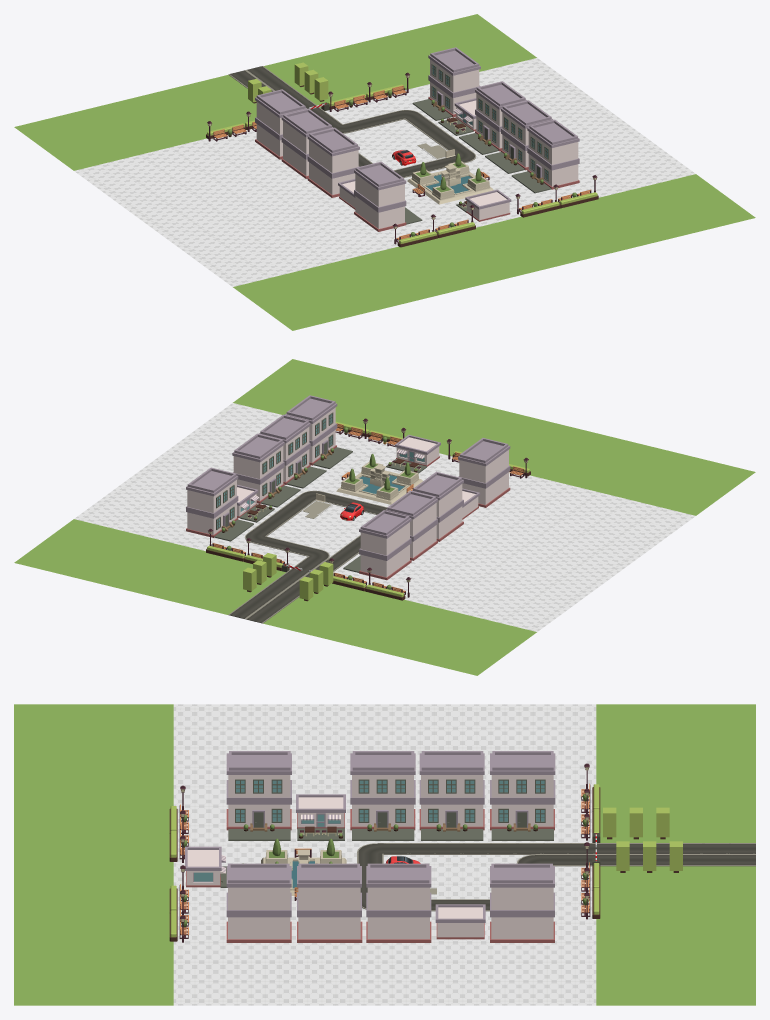
The model's file is ParkingJamPuzzleScene.fbx.
3 views of the same model, one above another, from view 1: azimuth 30°, elevation 25°; view 2: azimuth 150°, elevation 25°; view 3: azimuth 270°, elevation 25° (orthographic). The views are drawn at different scales.
Parts seen in each view (by area): view 1: Ground, GrassGround.001, GrassGround2, GrassGround, Building4, Building7, Building1, Building8, Building3, Building2, Fountain, Building10.001 (+3 smaller); view 2: Ground, GrassGround.001, GrassGround2, GrassGround, Building1, Building10.001, Building2, Building7, Building4, Building3, Fountain, Building9.001 (+3 smaller); view 3: Ground, GrassGround.001, GrassGround, GrassGround2, Building9.001, Building7, Building8, Building10.001, Building2, Building4, Building3, Building1 (+4 smaller).
Boxes of the visible parts, x1=… form: Ground: x1=74, y1=58, x2=695, y2=286; GrassGround.001: x1=233, y1=174, x2=755, y2=330; GrassGround2: x1=14, y1=75, x2=256, y2=170; GrassGround: x1=264, y1=14, x2=536, y2=107; Building4: x1=511, y1=119, x2=579, y2=193; Building7: x1=354, y1=161, x2=422, y2=231; Building1: x1=412, y1=47, x2=480, y2=120; Building8: x1=307, y1=127, x2=359, y2=197; Building3: x1=485, y1=100, x2=553, y2=173; Building2: x1=459, y1=81, x2=526, y2=154; Fountain: x1=407, y1=153, x2=493, y2=204; Building10.001: x1=255, y1=89, x2=307, y2=159; Ground: x1=74, y1=403, x2=695, y2=631; GrassGround.001: x1=233, y1=359, x2=755, y2=515; GrassGround2: x1=263, y1=583, x2=536, y2=675; GrassGround: x1=14, y1=519, x2=285, y2=614; Building1: x1=186, y1=467, x2=253, y2=541; Building10.001: x1=343, y1=510, x2=411, y2=580; Building2: x1=232, y1=433, x2=300, y2=507; Building7: x1=458, y1=438, x2=510, y2=507; Building4: x1=285, y1=395, x2=352, y2=468; Building3: x1=259, y1=414, x2=326, y2=488; Fountain: x1=336, y1=454, x2=422, y2=504; Building9.001: x1=385, y1=490, x2=437, y2=560; Ground: x1=173, y1=704, x2=596, y2=1005; GrassGround.001: x1=14, y1=704, x2=173, y2=1005; GrassGround: x1=596, y1=866, x2=755, y2=1005; GrassGround2: x1=596, y1=704, x2=755, y2=842; Building9.001: x1=419, y1=751, x2=484, y2=840; Building7: x1=226, y1=751, x2=291, y2=840; Building8: x1=350, y1=751, x2=415, y2=840; Building10.001: x1=490, y1=751, x2=555, y2=840; Building2: x1=366, y1=863, x2=431, y2=942; Building4: x1=226, y1=863, x2=291, y2=942; Building3: x1=297, y1=863, x2=362, y2=942; Building1: x1=490, y1=863, x2=554, y2=942.
Size of the model in its own units: 53.6 by 5.17 by 55.8.
Materials: 7 (5 with a texture image).
